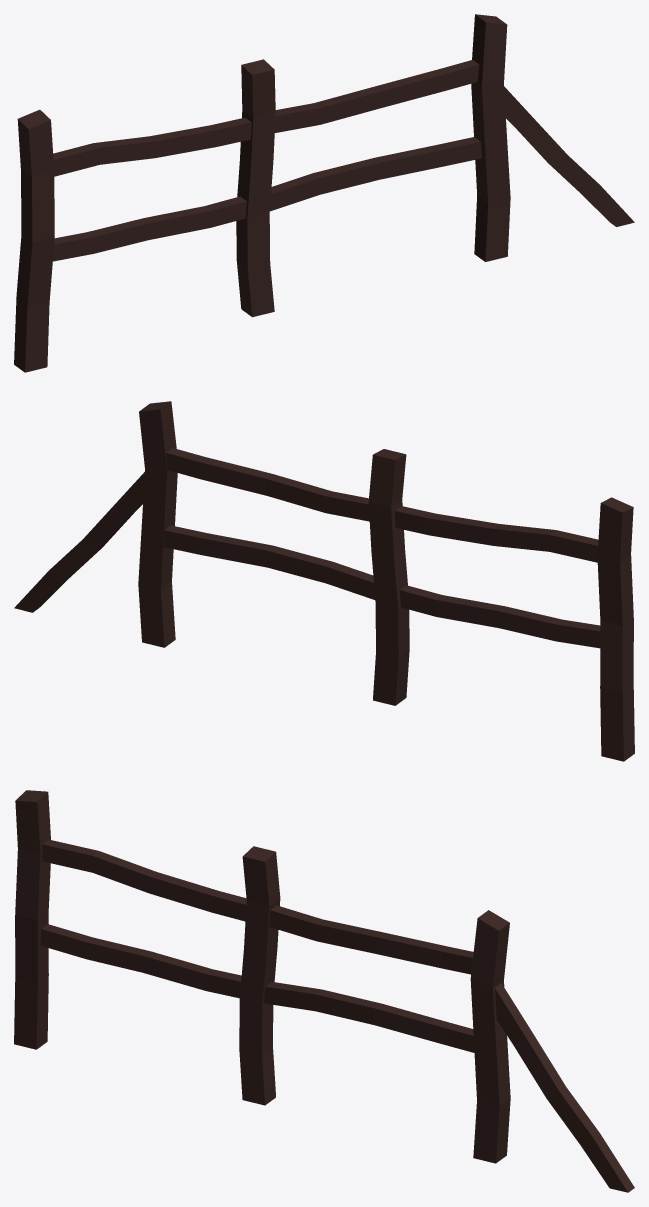
File: fence_long.fbx
The picture shows the model from 3 angles, top to bottom: view 1: azimuth 30°, elevation 25°; view 2: azimuth 150°, elevation 25°; view 3: azimuth 330°, elevation 25°; orthographic projection.
Visible parts, largest first — view 1: fence_l1; view 2: fence_l1; view 3: fence_l1.
Boxes of the visible parts, box(x1,y1,x2,y2) form: fence_l1: box(14, 14, 634, 372); fence_l1: box(14, 401, 634, 761); fence_l1: box(14, 790, 634, 1192).
Size of the model in its own units: 2.47 by 0.9692 by 0.1107.
